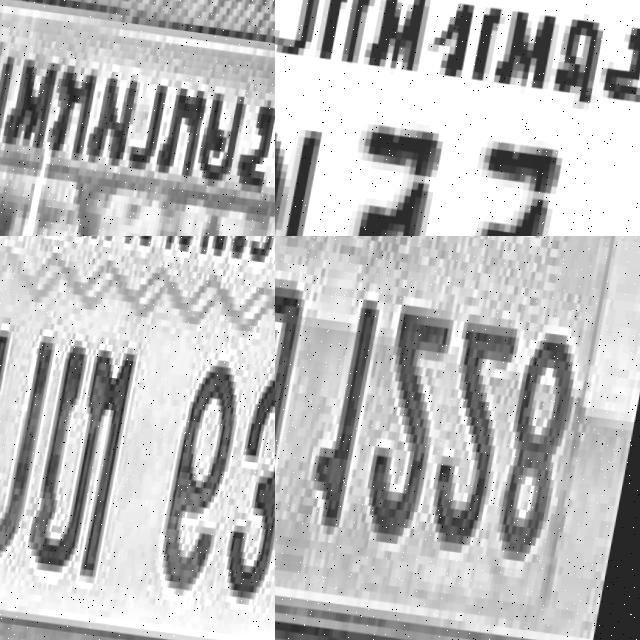license-plate: (275, 236, 640, 640), (0, 236, 275, 640), (275, 0, 640, 236), (0, 0, 275, 236)
